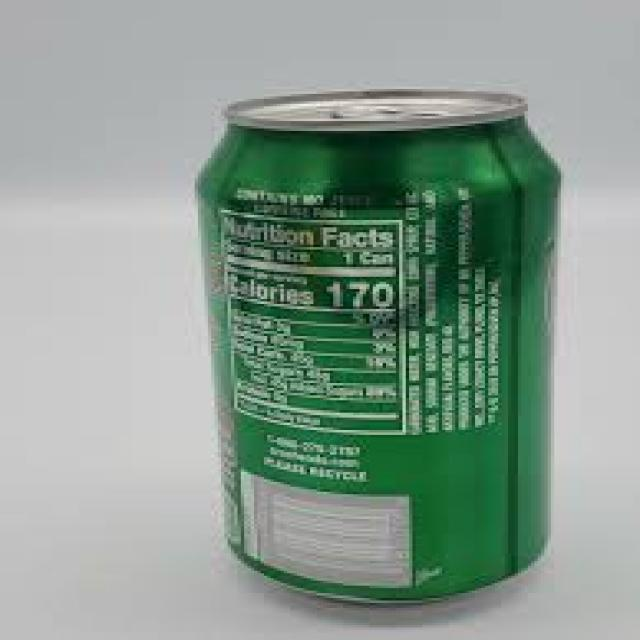aluminum_can: (198, 89, 561, 604)
